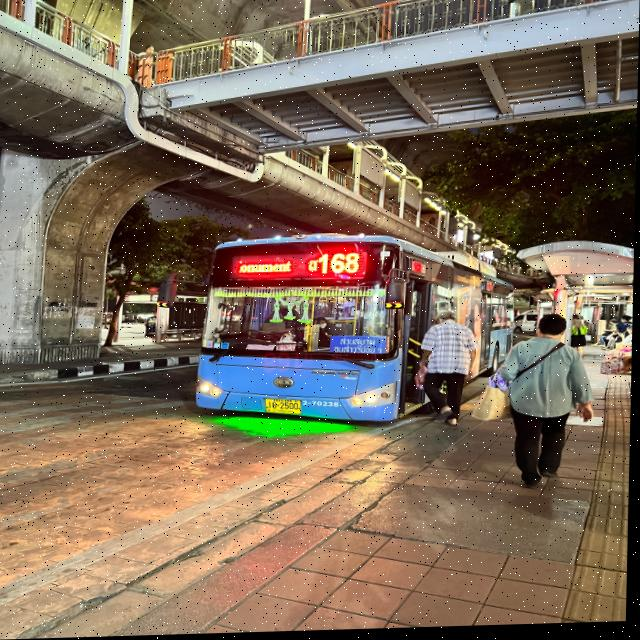BMTA-bus: (195, 236, 474, 431)
Bus Line Number: (317, 249, 366, 282)
Bus Side Number: (304, 401, 345, 411)
Destination Sign: (331, 337, 390, 356)
